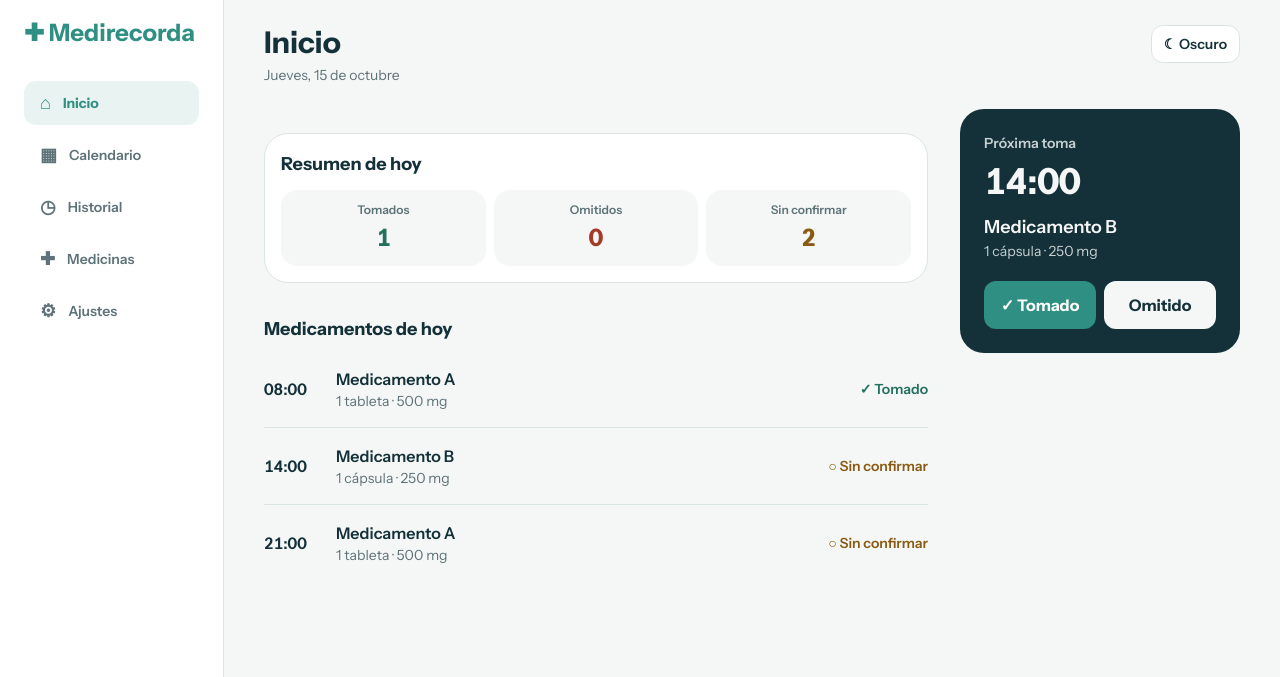
Test: cantidad por toma › cero deshabilita Guardar y muestra el error; un decimal válido lo habilita
Click the button "✚ Medicinas": (112, 259) [24,237,199,281]
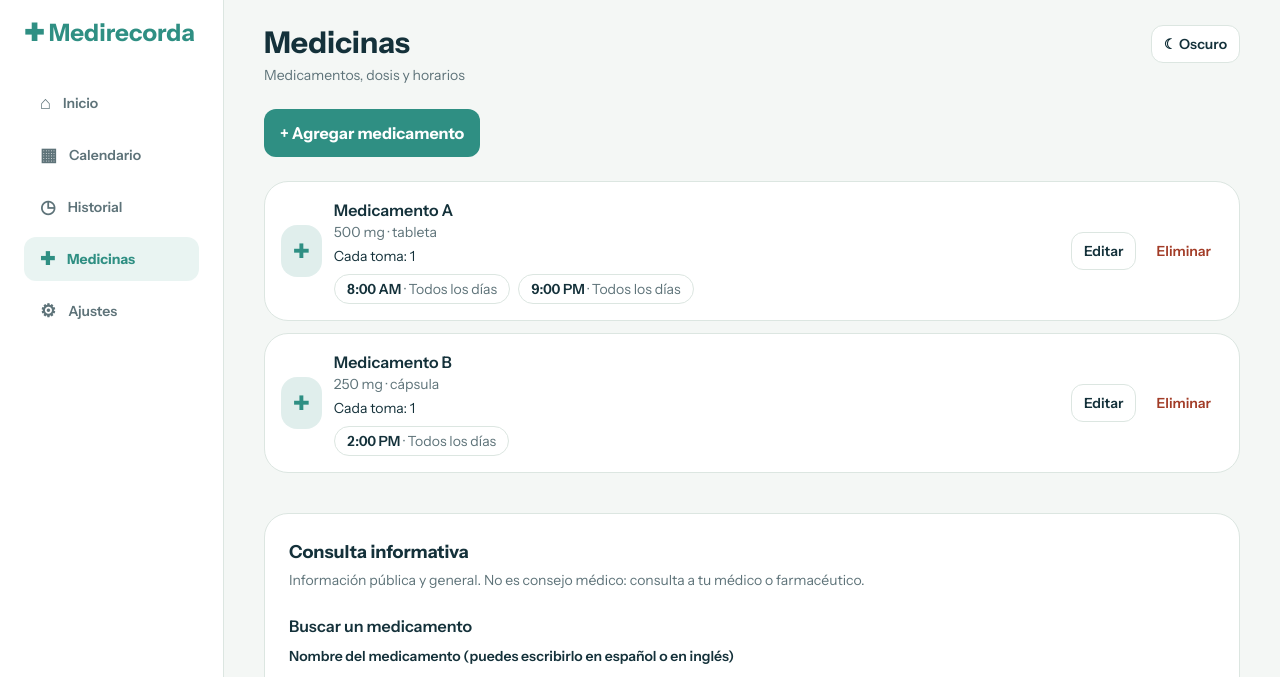
Click the button "+ Agregar medicamento": (372, 133) [264,109,480,157]
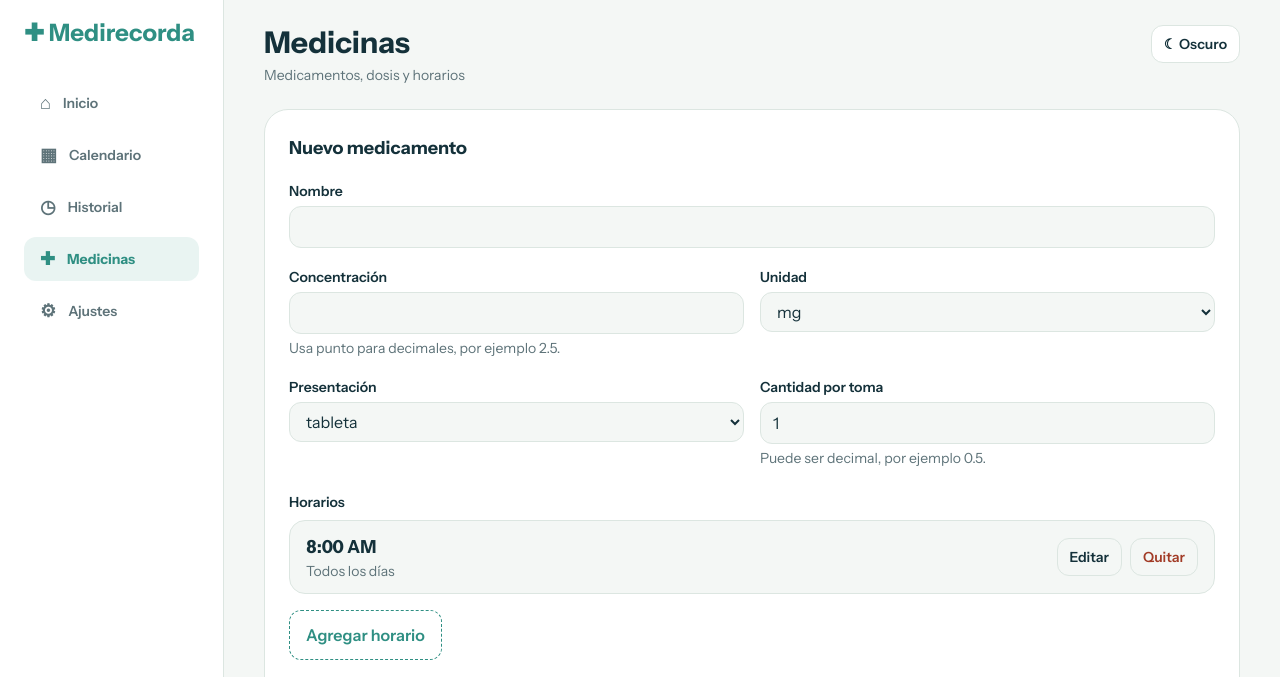
In the field labelled "Nombre": (752, 227) [289,206,1215,248], type "Prueba"
In the field labelled "Concentración": (516, 313) [289,292,744,334], type "500"
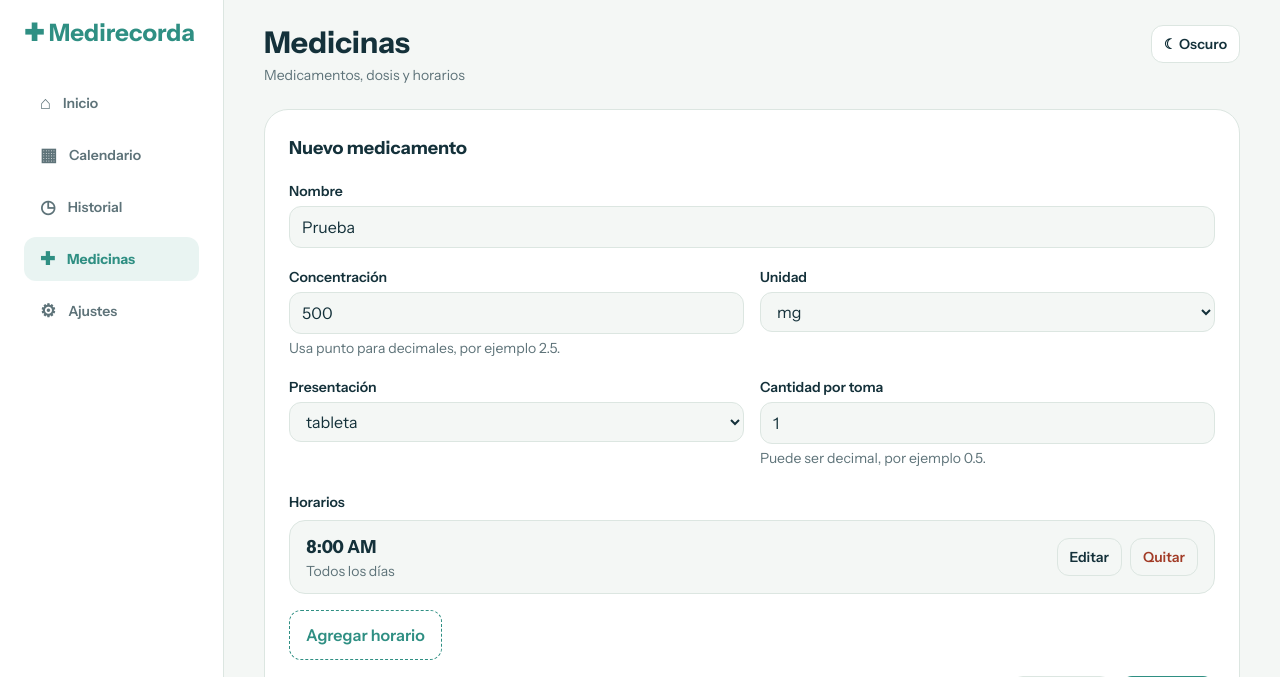
Replace the text in the field labelled "Cantidad por toma" with "0": (988, 423) [760,402,1215,444]
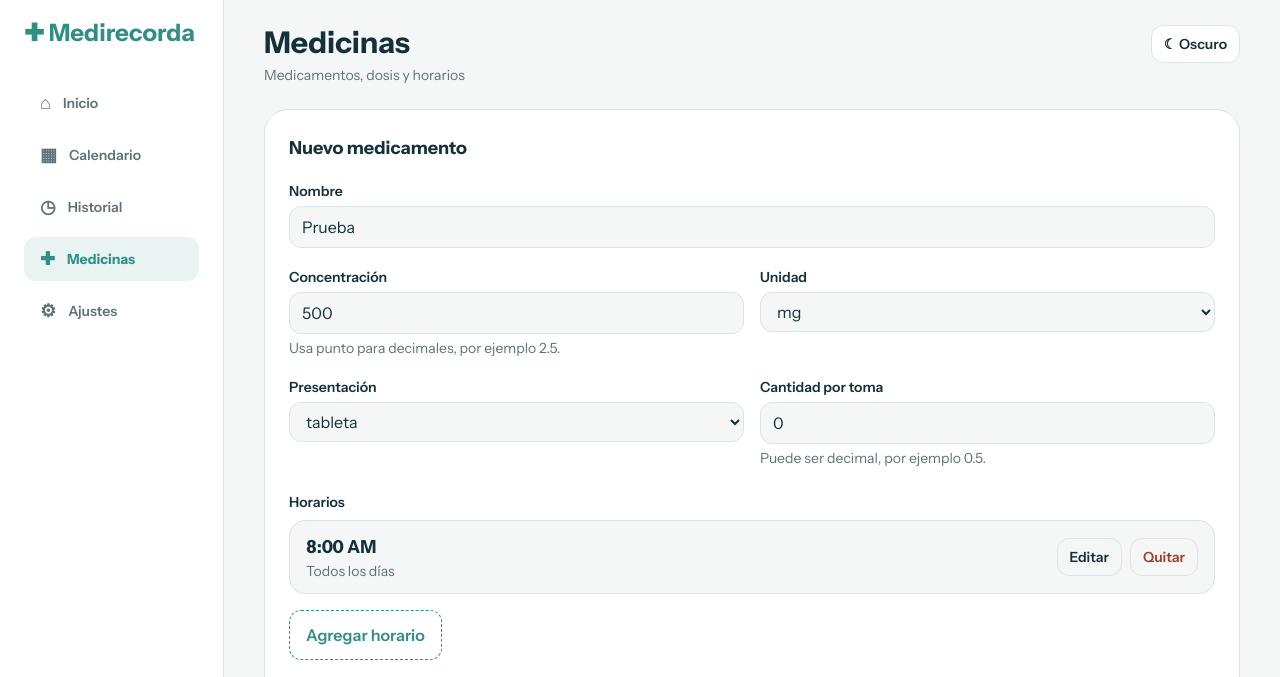
Leave the field labelled "Cantidad por toma", box [760,402,1215,444]
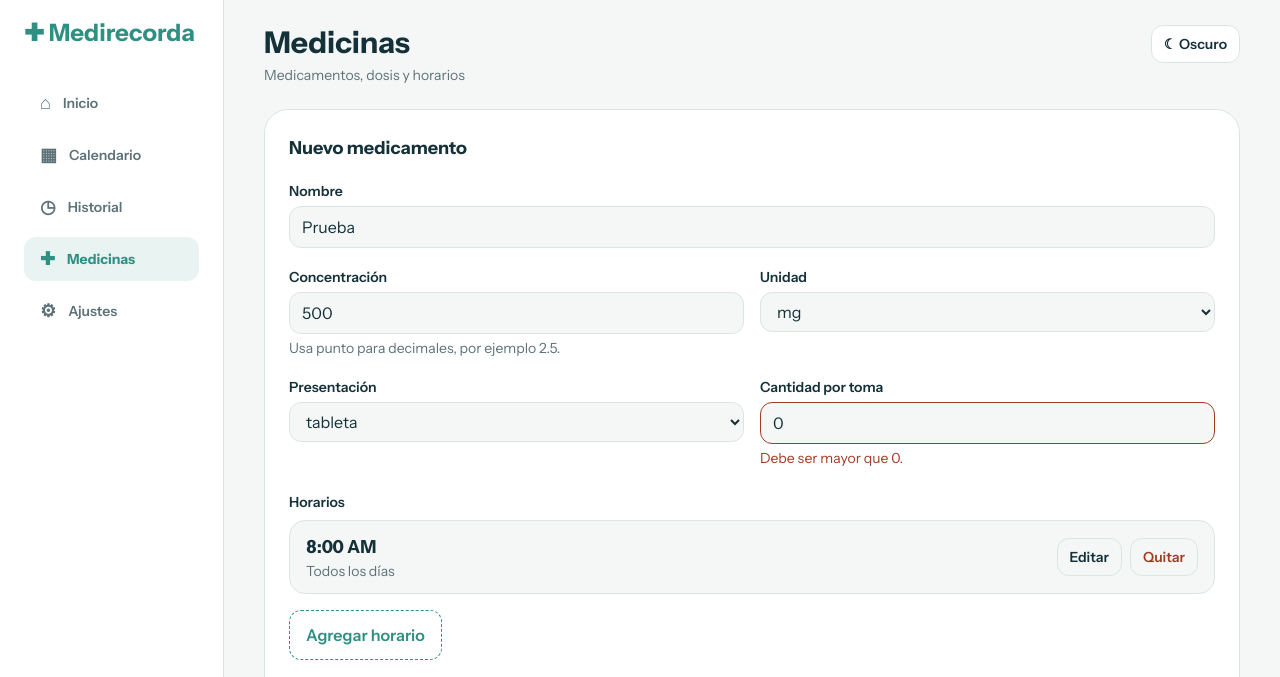
Expected: the text "Debe ser mayor que 0." is shown, [760,449,903,467]
Replace the text in the field labelled "Cantidad por toma" with "0.5": (988, 423) [760,402,1215,444]
(page scrolled)
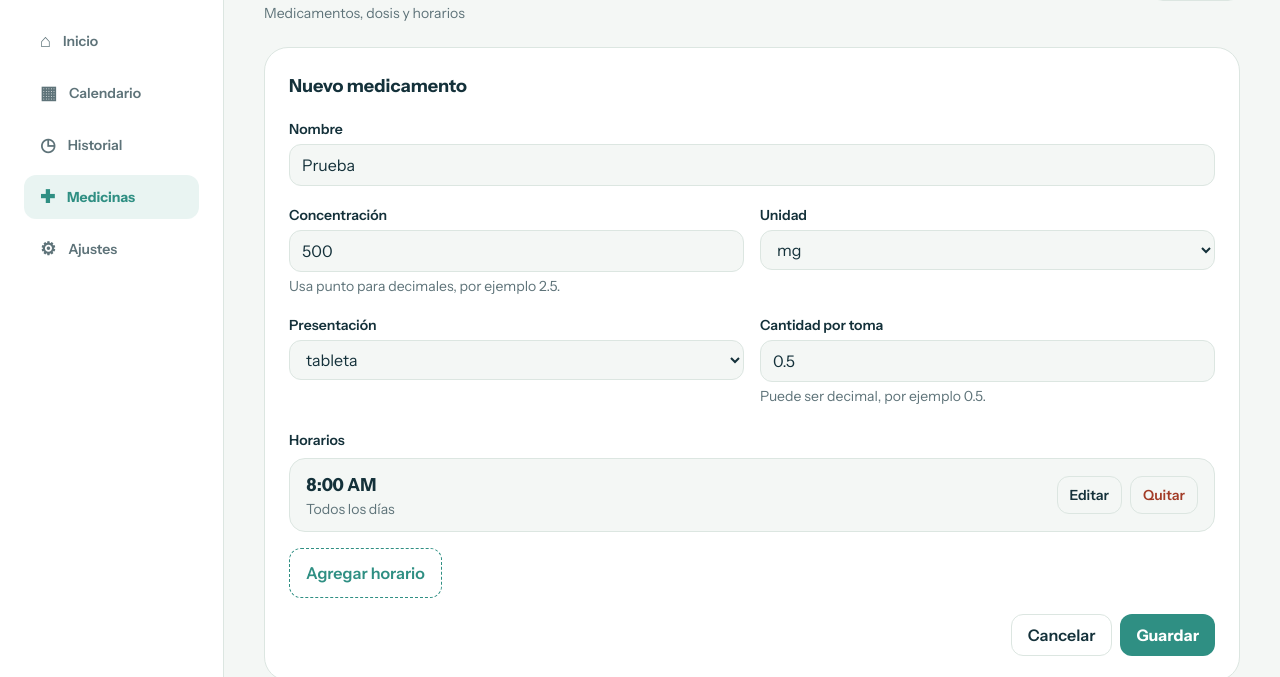
Expected: the text "Debe ser mayor que 0." is gone
Expected: the button "Guardar" is enabled, [1120,614,1215,656]
